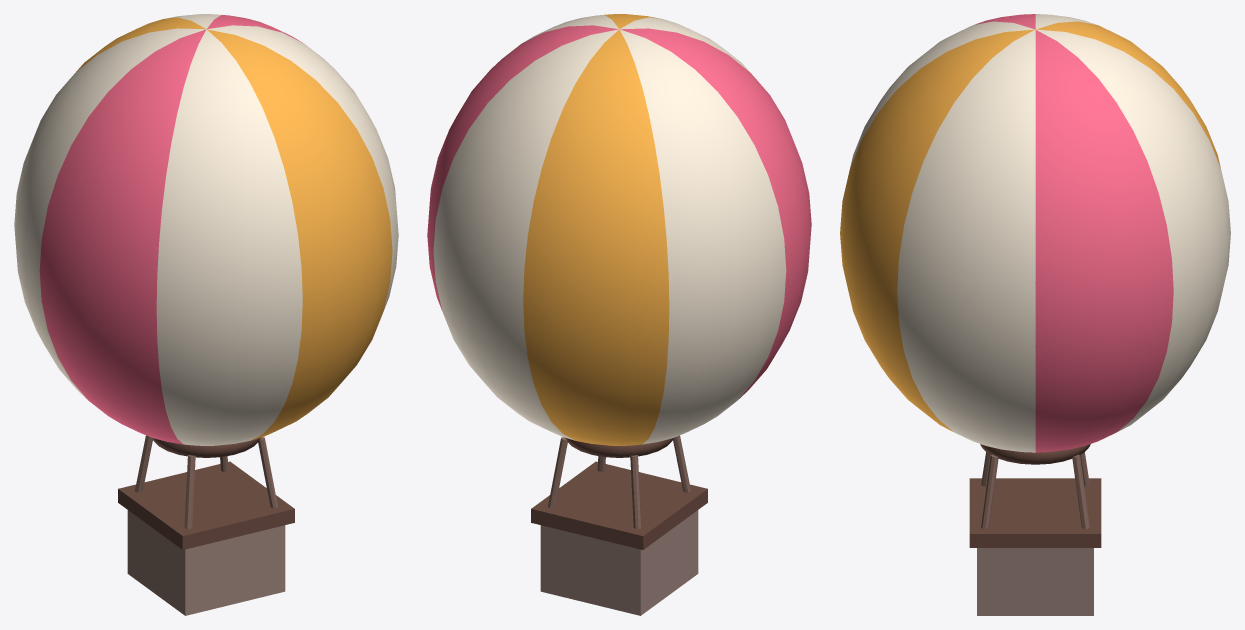
Rendered from balloon.glb.
3 renders of one model, left to right at view 1: azimuth 30°, elevation 25°; view 2: azimuth 150°, elevation 25°; view 3: azimuth 270°, elevation 25°, orthographic.
Visible parts, largest first — view 1: BEnvelope, BBasket, BRim, BSkirt, BRope4, BRope2; view 2: BEnvelope, BBasket, BRim, BSkirt, BRope3, BRope1; view 3: BEnvelope, BRim, BBasket, BSkirt, BRope1, BRope2.
Boxes of the visible parts, x1,y1,x2,y2 form: BEnvelope: (14, 14, 398, 445); BBasket: (127, 510, 285, 615); BRim: (118, 461, 294, 549); BSkirt: (152, 437, 260, 457); BRope4: (184, 455, 195, 528); BRope2: (258, 437, 277, 507); BEnvelope: (427, 14, 811, 445); BBasket: (540, 510, 698, 615); BRim: (531, 461, 707, 549); BSkirt: (565, 437, 673, 457); BRope3: (630, 455, 641, 528); BRope1: (548, 437, 567, 507); BEnvelope: (840, 14, 1230, 452); BRim: (969, 478, 1101, 547); BBasket: (977, 548, 1093, 615); BSkirt: (980, 444, 1090, 464); BRope1: (1072, 454, 1089, 528); BRope2: (981, 454, 998, 528).
Size of the model in its own units: 2.5 by 3.96 by 2.5.
